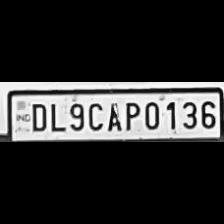0: (140, 98, 162, 130)
1: (162, 98, 178, 130)
3: (179, 98, 197, 130)
6: (198, 98, 216, 130)
9: (65, 100, 85, 132)
A: (104, 100, 122, 132)
C: (85, 99, 105, 131)
D: (26, 100, 48, 132)
L: (48, 100, 64, 132)
P: (121, 98, 139, 132)
